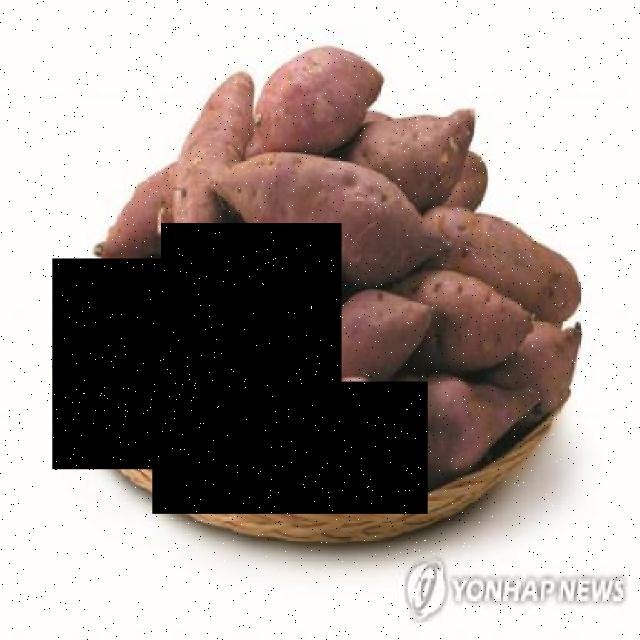Sweet_Potato: (152, 381, 428, 514), (160, 224, 342, 418), (52, 258, 170, 470)
